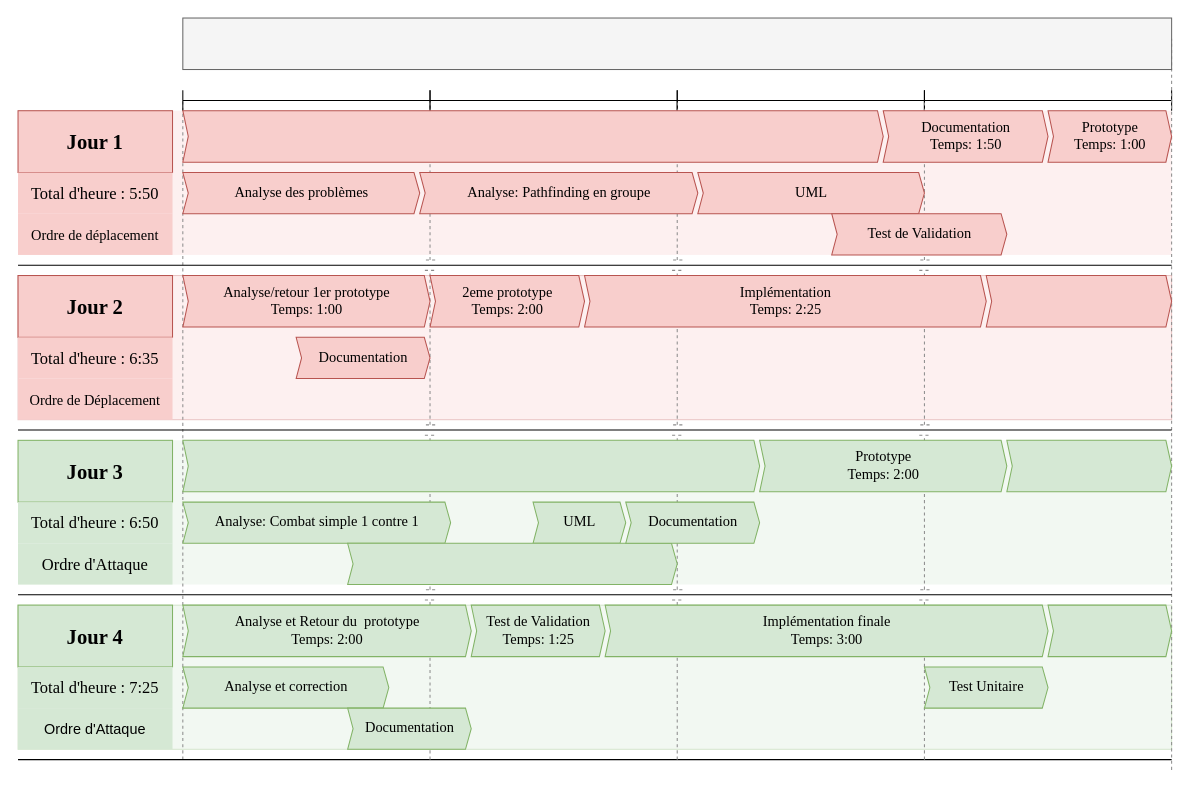
Some shapes in this 1191 by 789 pixel diagram are drawn without their labels. The centre of each missing label's shape, as x and y in pixels:
"Analyse et conception Temps: 3:00" belongs at point (532, 136).
"Analyse et Conception Temps: 3:25" belongs at point (471, 465).
"Analyse: Combat en Groupe" belongs at point (512, 563).
"Documentation Temps: 1:00" belongs at point (1109, 630).
"Documentation Temps: 1:10" belongs at point (1078, 300).
"Documentation Temps: 1:25" belongs at point (1089, 465).
"Semaine 4 (09.05.2022 - 12.05.2022): Pathfinding HPA" belongs at point (677, 43).
